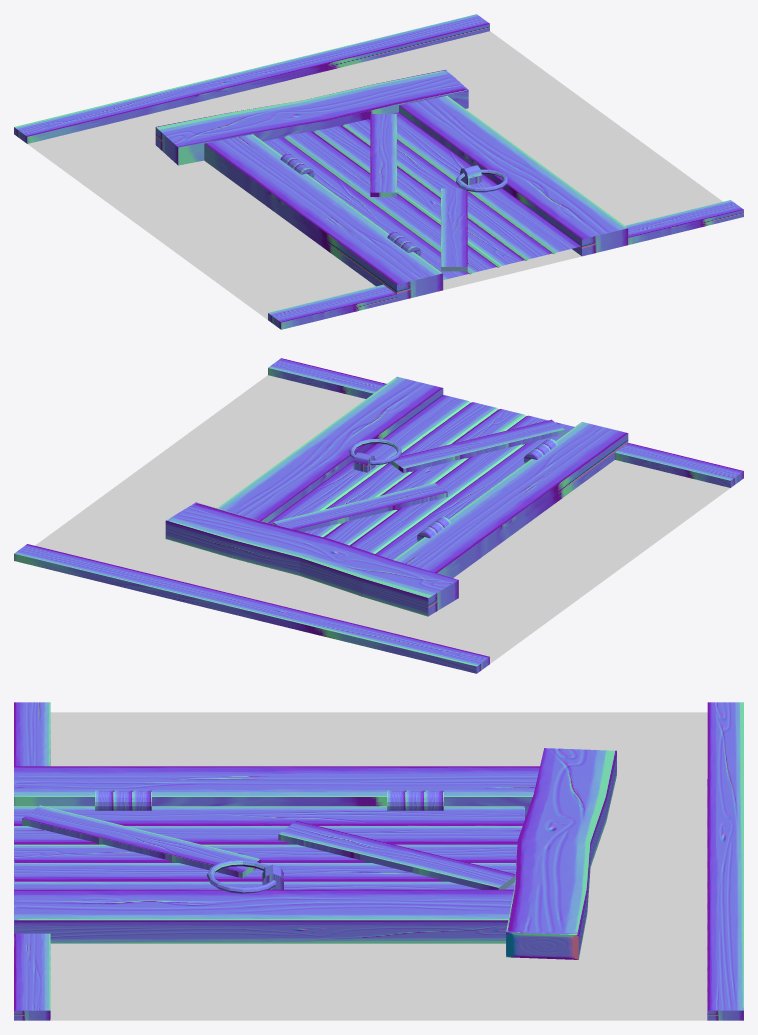
File: SM_Door_A.fbx
The picture shows the model from 3 angles, top to bottom: view 1: azimuth 30°, elevation 25°; view 2: azimuth 150°, elevation 25°; view 3: azimuth 270°, elevation 25°; orthographic projection. The views are drawn at different scales.
Visible parts, largest first — view 1: SM_Door_A; view 2: SM_Door_A; view 3: SM_Door_A.
Part boxes in pixels (left/top/right/bottom): SM_Door_A: left=14, top=14, right=743, bottom=329; SM_Door_A: left=14, top=358, right=743, bottom=673; SM_Door_A: left=14, top=702, right=743, bottom=1020.
Bounding box in the file's own units: 200 × 9.9 × 200.
